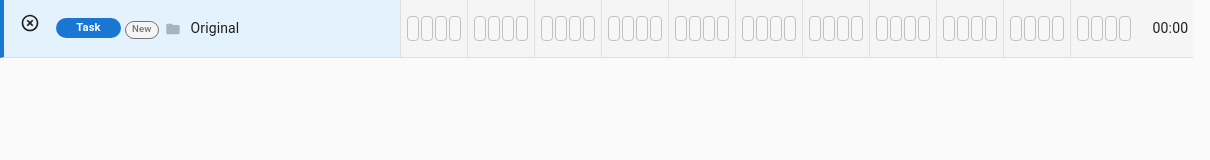
Test: TaskRow › edit mode › should cancel edit and restore original description when pressing Escape
The width and height of the screenshot is (1210, 160).
Replace the text in the field showing "Original" with "Changed" at (287, 28), box [190,18,384,38]
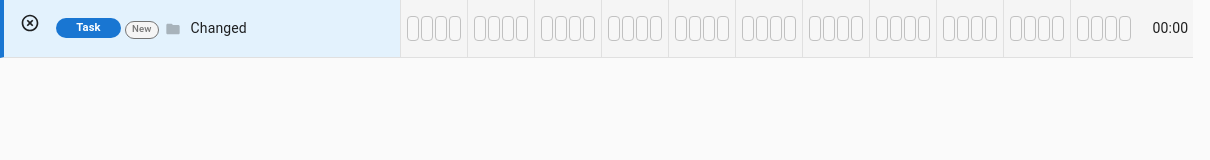
Press Escape
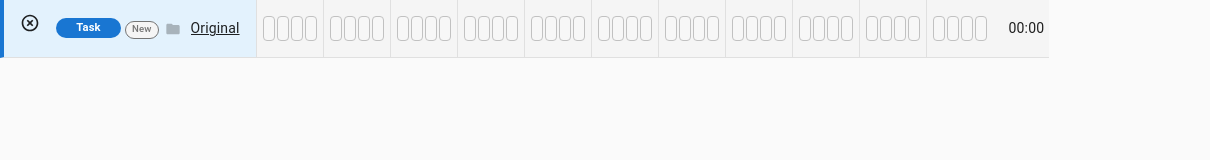
Result: the text "Original" is shown at [190,18,240,38]
